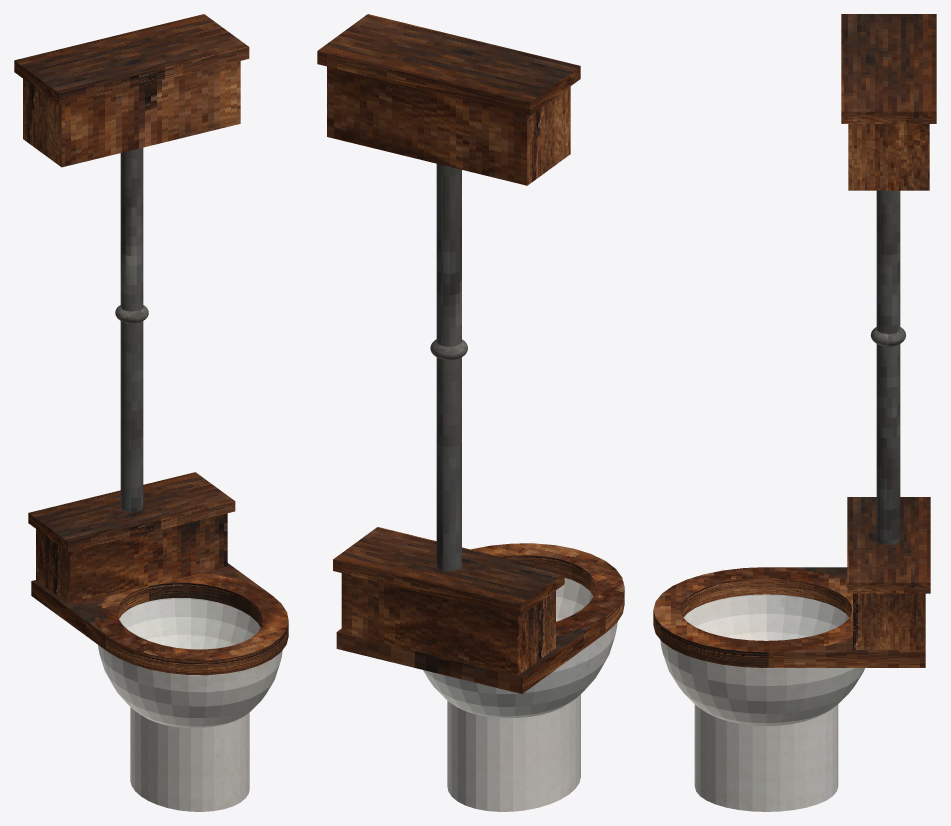
Rendered from toilette.glb.
3 views of the same model, side by side, from view 1: azimuth 30°, elevation 25°; view 2: azimuth 150°, elevation 25°; view 3: azimuth 270°, elevation 25° (orthographic). The views are drawn at different scales.
Parts seen in each view (by area): view 1: Cube.008, Sphere.001, Cube.006, Cube.007, Cube.004, Cylinder, Cylinder.002, Cube.005; view 2: Cube.008, Cube.007, Cube.004, Cylinder, Cube.006, Cube.005, Cylinder.002, Sphere.001; view 3: Sphere.001, Cube.006, Cylinder, Cube.007, Cylinder.002, Cube.005, Cube.008, Cube.004.
Part boxes in pixels (<box>): Cube.008: <box>23,61,240,167</box>; Sphere.001: <box>98,598,282,727</box>; Cube.006: <box>31,563,288,675</box>; Cube.007: <box>14,14,249,104</box>; Cube.004: <box>36,513,227,604</box>; Cylinder: <box>130,707,249,811</box>; Cylinder.002: <box>120,147,143,511</box>; Cube.005: <box>28,472,235,551</box>; Cube.008: <box>327,66,570,185</box>; Cube.007: <box>317,14,580,115</box>; Cube.004: <box>341,573,555,675</box>; Cylinder: <box>447,694,580,811</box>; Cube.006: <box>336,543,624,693</box>; Cube.005: <box>333,527,564,616</box>; Cylinder.002: <box>436,164,461,570</box>; Sphere.001: <box>423,577,617,717</box>; Sphere.001: <box>660,594,864,726</box>; Cube.006: <box>653,567,925,667</box>; Cylinder: <box>694,704,838,811</box>; Cube.007: <box>841,14,936,123</box>; Cylinder.002: <box>876,190,900,544</box>; Cube.005: <box>847,497,930,593</box>; Cube.008: <box>848,124,929,190</box>; Cube.004: <box>853,593,924,649</box>.
Bounding box in the file's own units: 0.9664 × 3.34 × 1.18.
9 materials, 9 textured.
